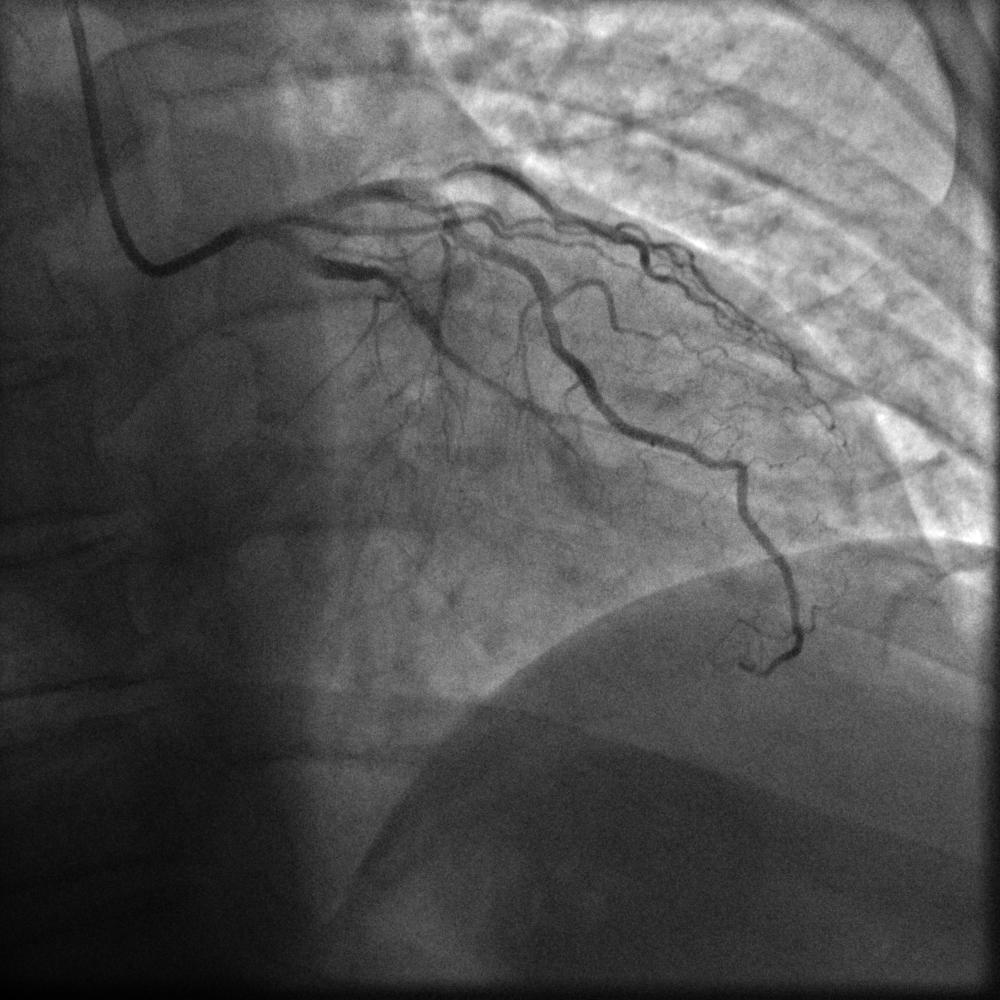Stenosis: (376, 272, 429, 330)
